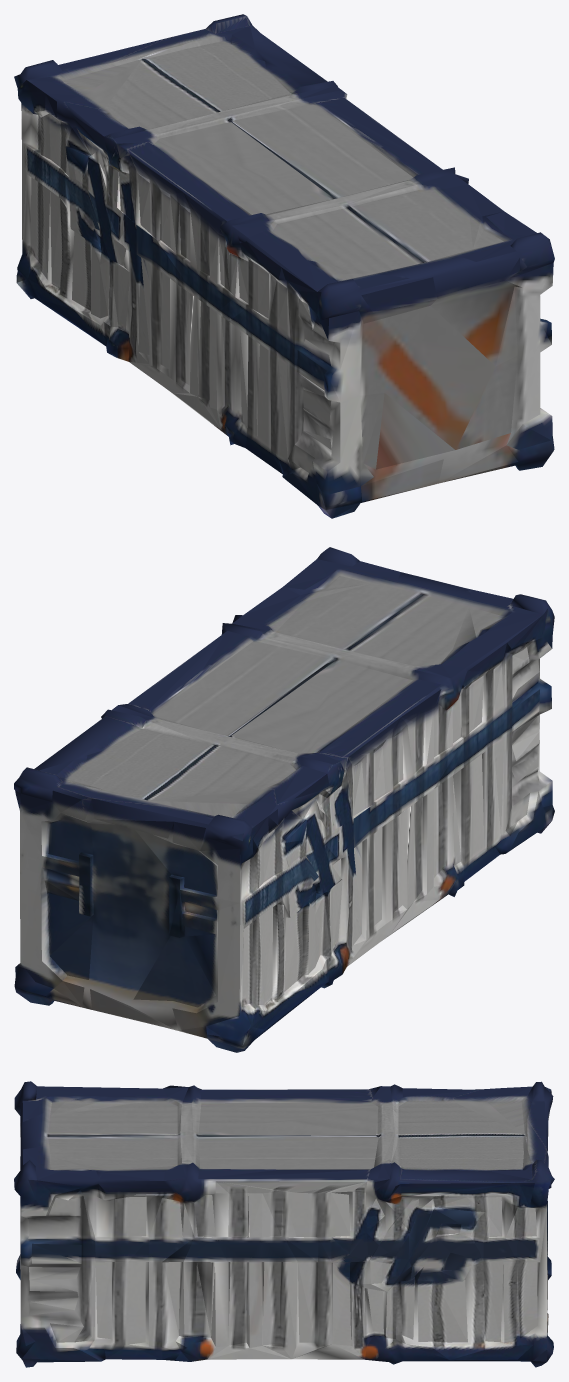
3 renders of one model, top to bottom at view 1: azimuth 30°, elevation 25°; view 2: azimuth 150°, elevation 25°; view 3: azimuth 270°, elevation 25°, orthographic. The views are drawn at different scales.
Visible parts, largest first — view 1: tripo_node_ae94fd78.002; view 2: tripo_node_ae94fd78.002; view 3: tripo_node_ae94fd78.002.
Boxes of the visible parts, x1,y1,x2,y2 form: tripo_node_ae94fd78.002: [14, 14, 554, 518]; tripo_node_ae94fd78.002: [14, 547, 554, 1052]; tripo_node_ae94fd78.002: [14, 1081, 554, 1367].
Bounding box in the file's own units: 10.53 × 9.92 × 24.53.
